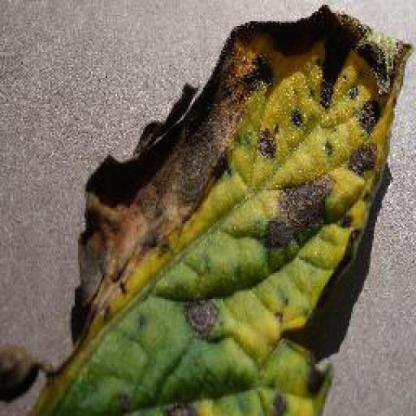Tomato_Blight: (0, 8, 412, 416)
